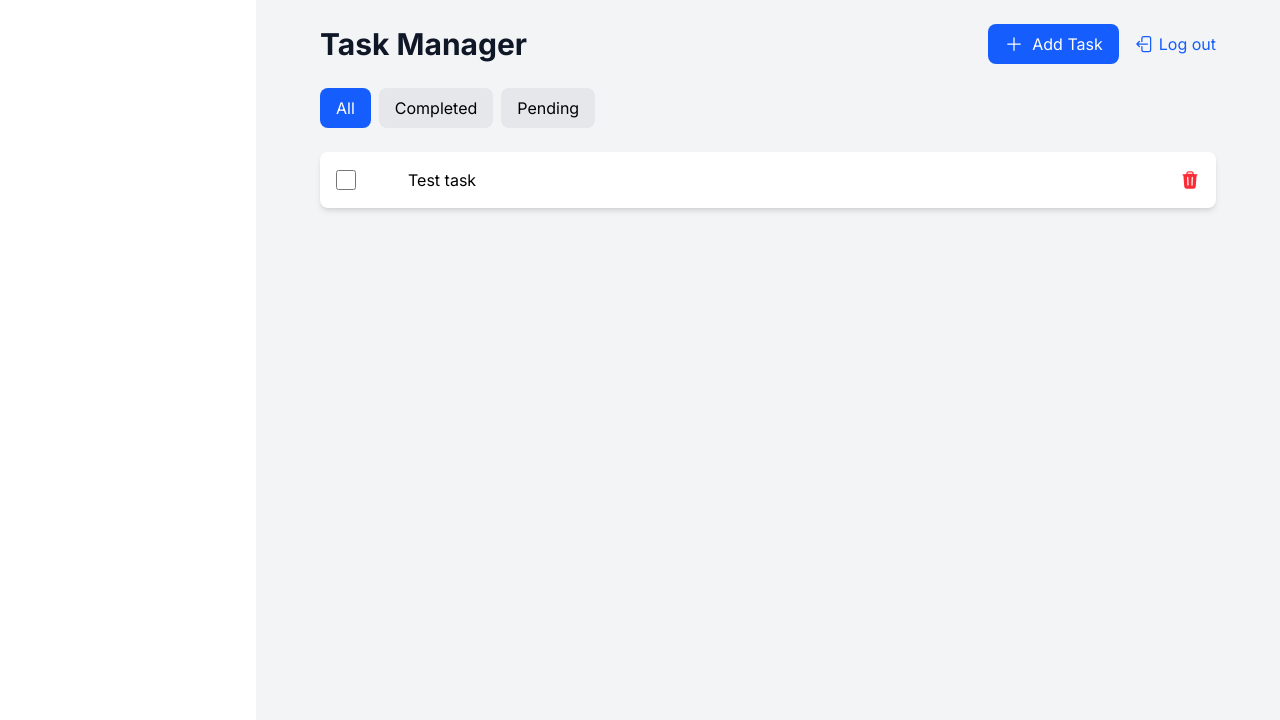
Test: Tasks page › should open task form if user click to add task
Click the button "Add Task" at (1054, 44), box [988, 24, 1119, 64]
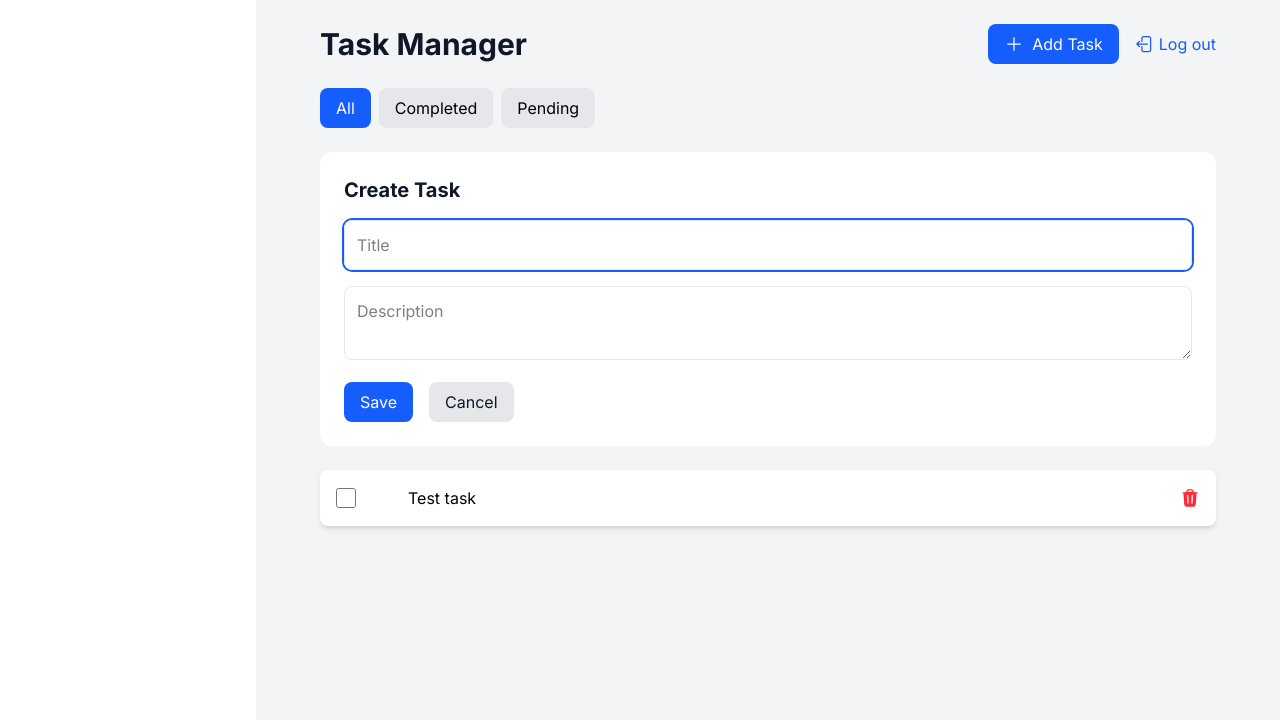
expect the field with placeholder "Title" is shown: met, box [344, 220, 1192, 270]
expect the text box with placeholder "Description" is shown: met, box [344, 286, 1192, 360]
